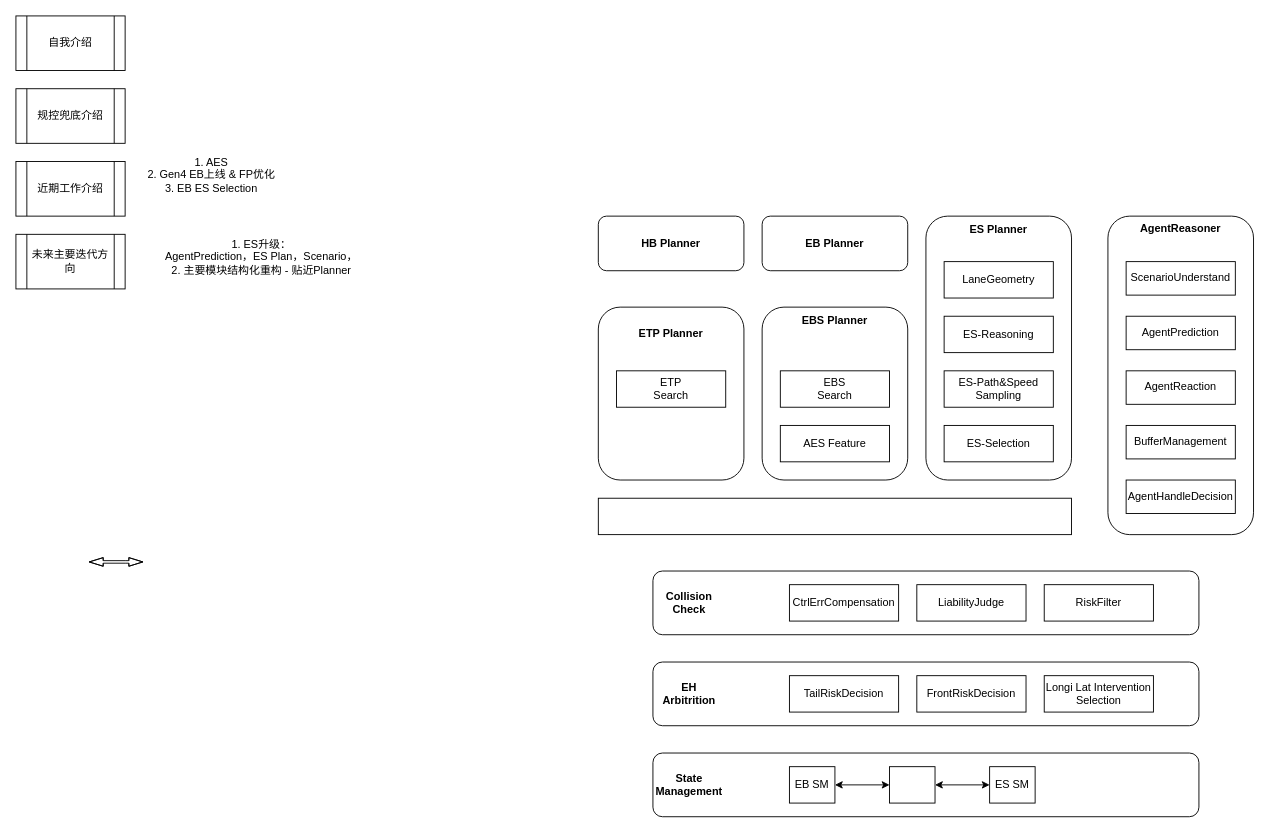
This 1269x833 diagram has some shape labels left out. Here are the shapes that lost their labels. From the top down, the box of each, then its label:
(597, 497, 1072, 535): Vehicle Adaption
(889, 766, 935, 803): EBS SM
